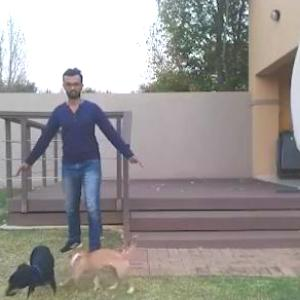land: (26, 67, 140, 264)
